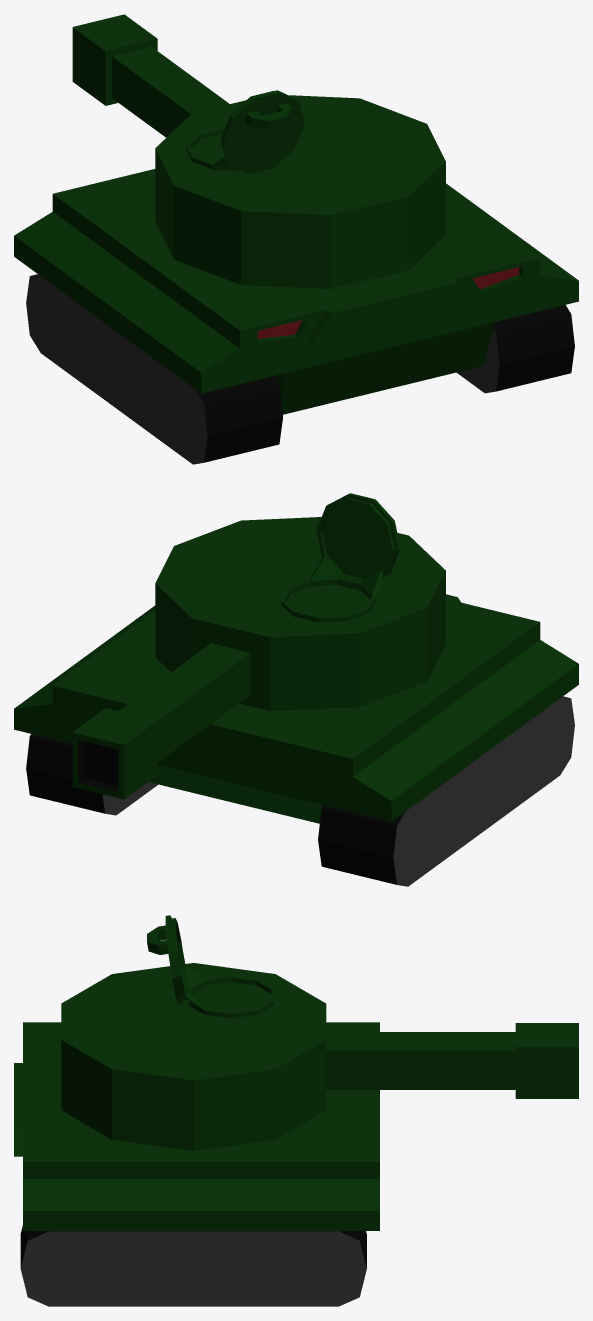
File: Tank_fbx.fbx
3 renders of one model, top to bottom at view 1: azimuth 30°, elevation 25°; view 2: azimuth 150°, elevation 25°; view 3: azimuth 270°, elevation 25°, orthographic. The views are drawn at different scales.
Visible parts, largest first — view 1: Tank_Base, Tank Turret; view 2: Tank_Base, Tank Turret; view 3: Tank_Base, Tank Turret.
Part boxes in pixels (x1,y1,x2,y2): Tank_Base: (14, 169, 578, 464); Tank Turret: (72, 14, 445, 288); Tank_Base: (14, 594, 578, 886); Tank Turret: (72, 493, 445, 799); Tank_Base: (14, 1022, 379, 1306); Tank Turret: (61, 915, 578, 1150).
Size of the model in its own units: 768 by 567 by 1044.
